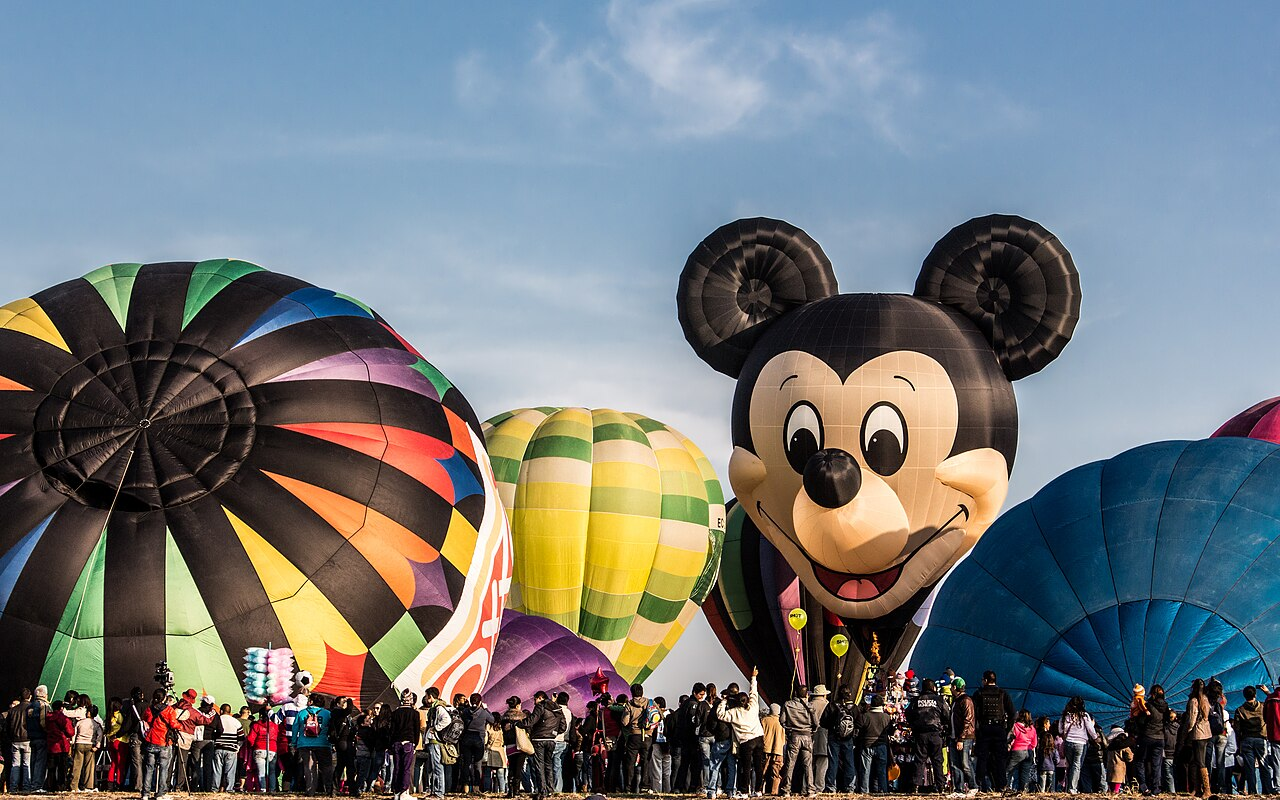balloon: (0, 258, 516, 714), (676, 214, 1080, 640), (904, 436, 1280, 723), (481, 406, 740, 683), (699, 500, 948, 696), (484, 608, 645, 713), (1183, 395, 1280, 442)
